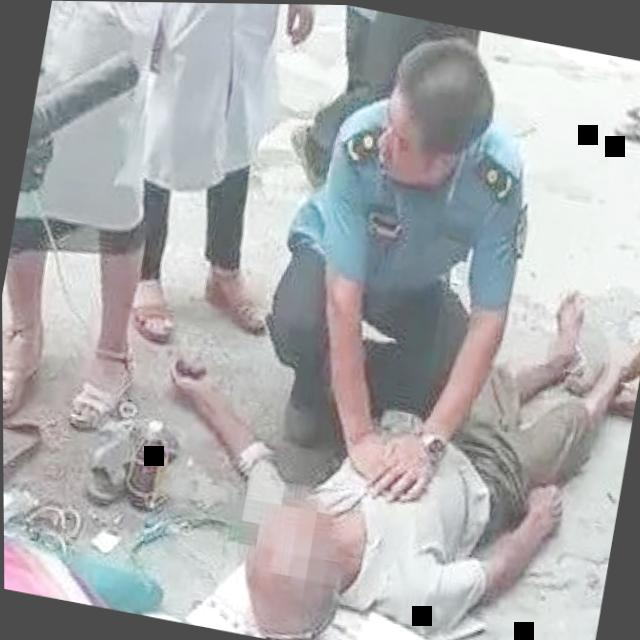Fall-Detected: (125, 195, 640, 640)
